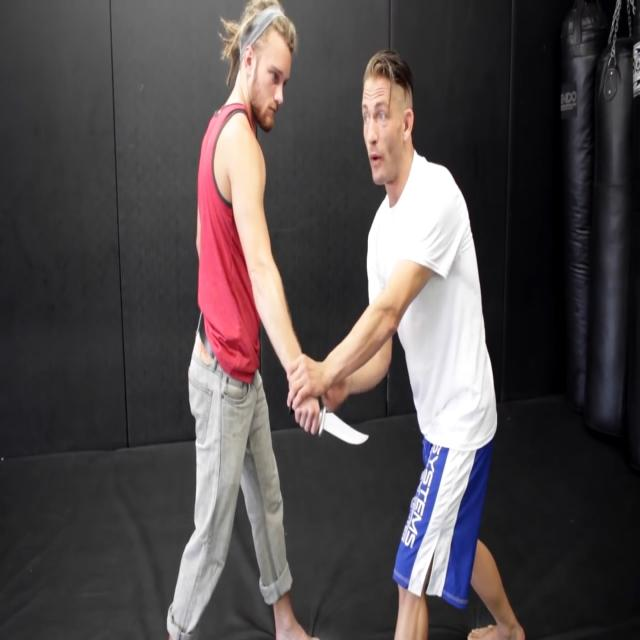knife: (319, 407, 373, 453)
